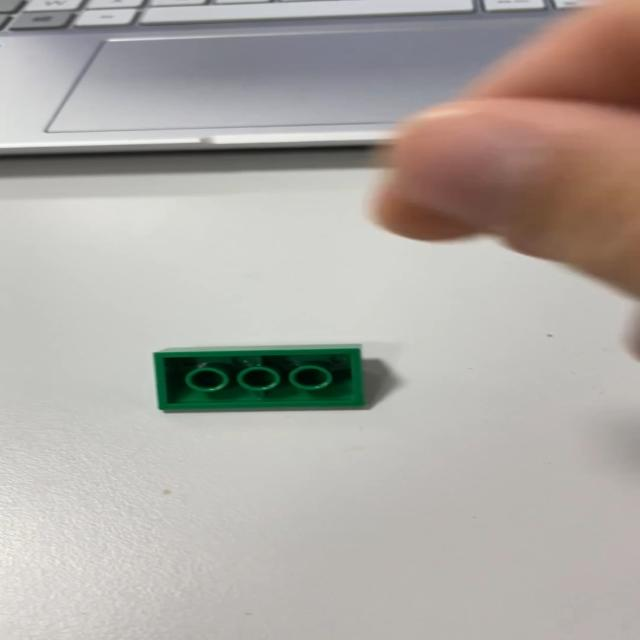P4x2x1: (151, 342, 366, 412)
